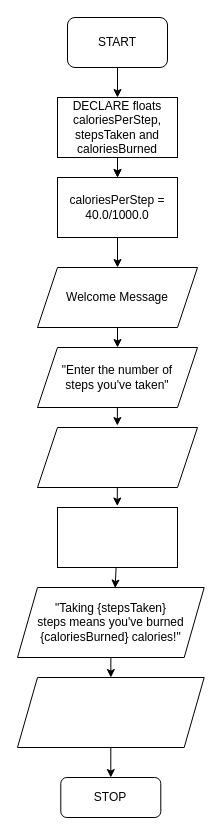
Some shapes in this 222 by 835 pixel diagram are drawn without their labels. The shapes that lost their labels are listed below. From the top down, each one's centre as x and y in pixels, then its label:
(x=117, y=457): INPUT stepsTaken
(x=117, y=537): caloriesBurned = stepsTaken * caloriesPerStep
(x=110, y=712): "Keep up the good work"
